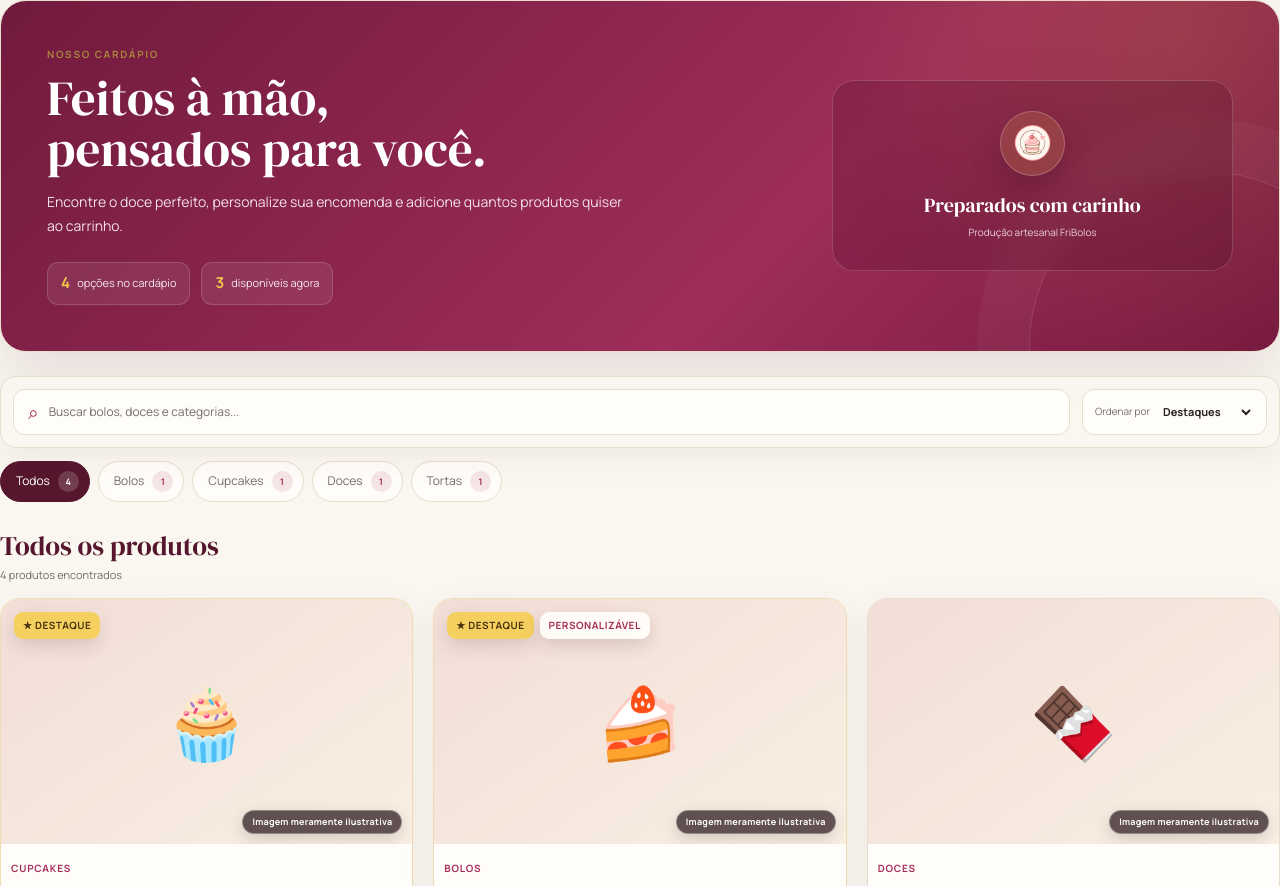
Test: ClientCatalog - busca e filtros › filtra por categoria
Click the button "Doces 1" at (357, 482), box x1=312 y1=461 x2=402 y2=502
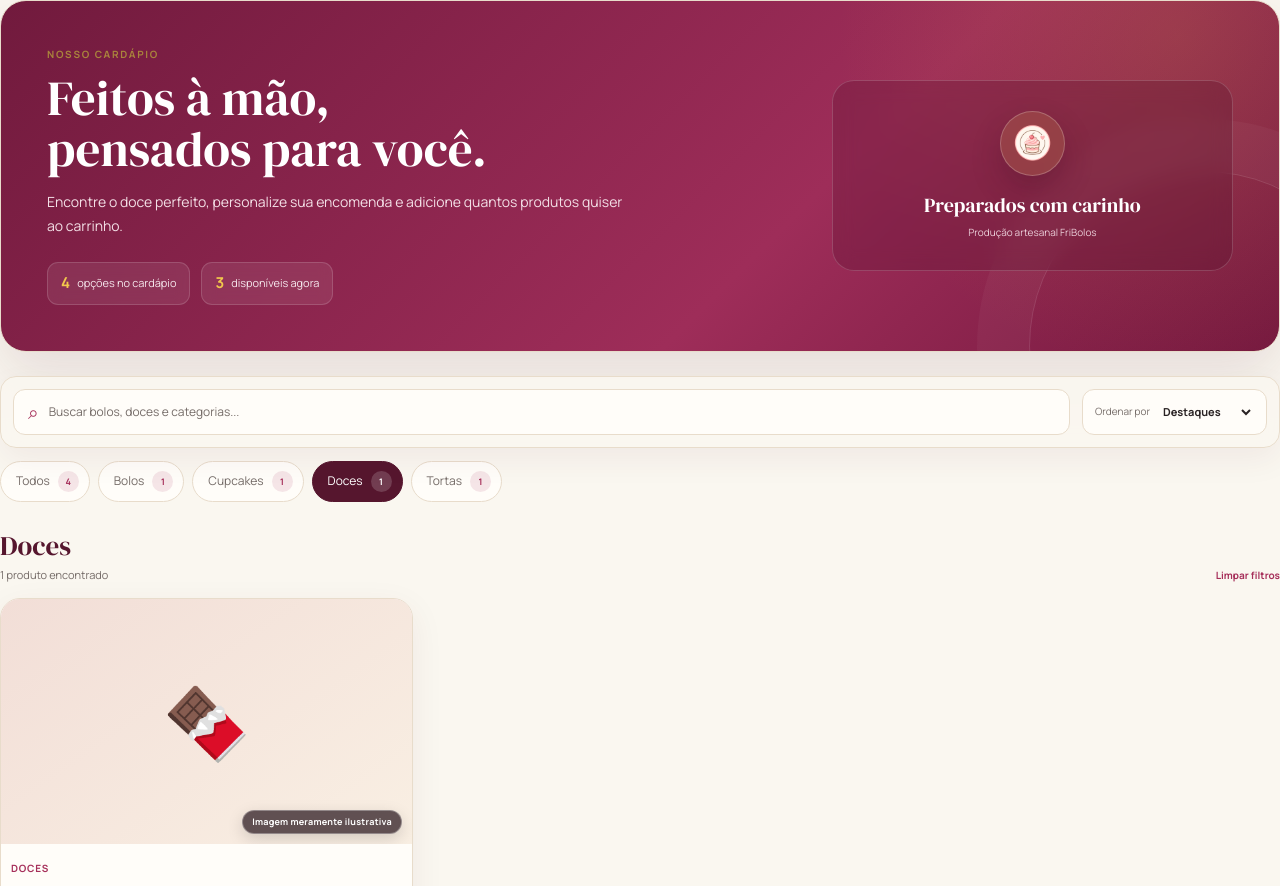
Check: the heading "Doces" is shown, box x1=0 y1=527 x2=71 y2=564
Check: the text "1 produto encontrado" is shown, box x1=0 y1=567 x2=108 y2=584
